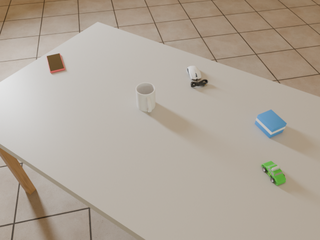box: (255, 110, 287, 138)
cup: (136, 83, 155, 112)
mouse: (187, 66, 201, 81)
phone: (46, 53, 65, 73)
toy_car: (261, 161, 286, 185)
